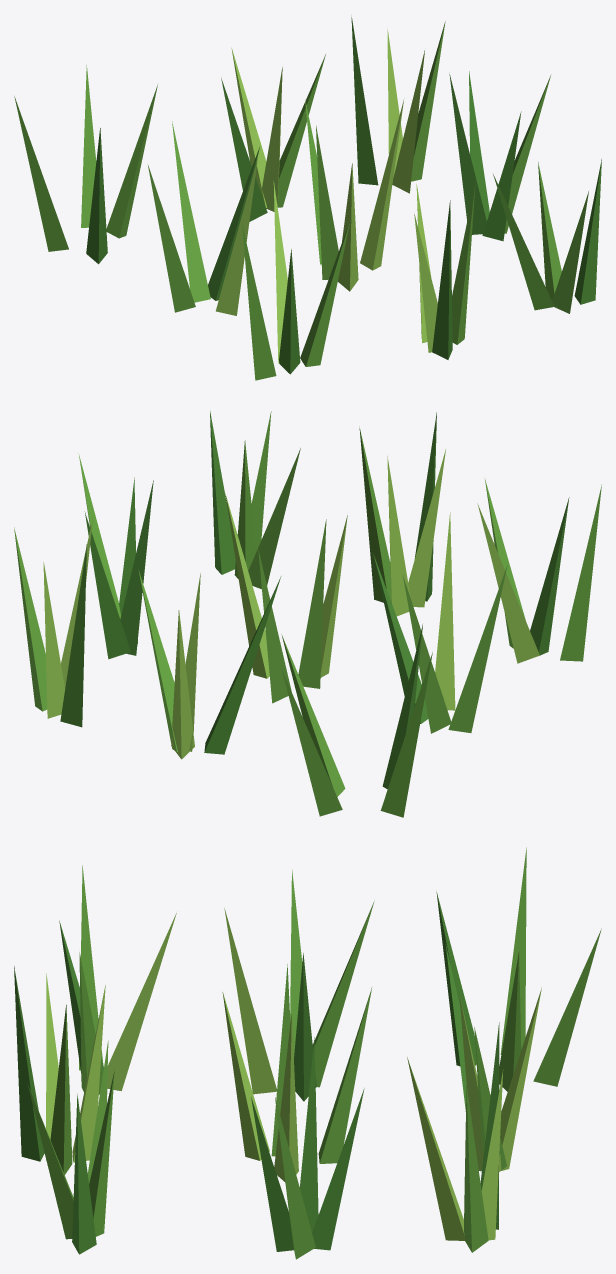
The model's file is wheat-2.glb.
3 renders of one model, top to bottom at view 1: azimuth 30°, elevation 25°; view 2: azimuth 150°, elevation 25°; view 3: azimuth 270°, elevation 25°, orthographic. The views are drawn at different scales.
Visible parts, largest first — view 1: wheat-2; view 2: wheat-2; view 3: wheat-2.
Boxes of the visible parts, x1,y1,x2,y2 form: wheat-2: (14,17,601,380); wheat-2: (14,411,601,817); wheat-2: (14,847,601,1259).
Size of the model in its own units: 0.7889 by 0.3022 by 0.8022.
Materials: 1 (1 with a texture image).
